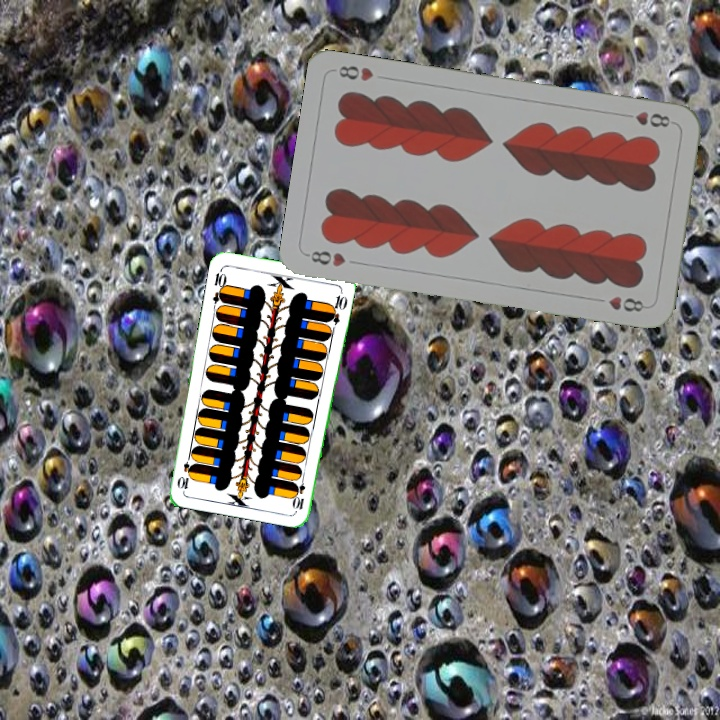E10: (209, 265, 229, 305), (291, 471, 308, 512)
H8: (618, 107, 673, 130), (303, 247, 348, 270)
